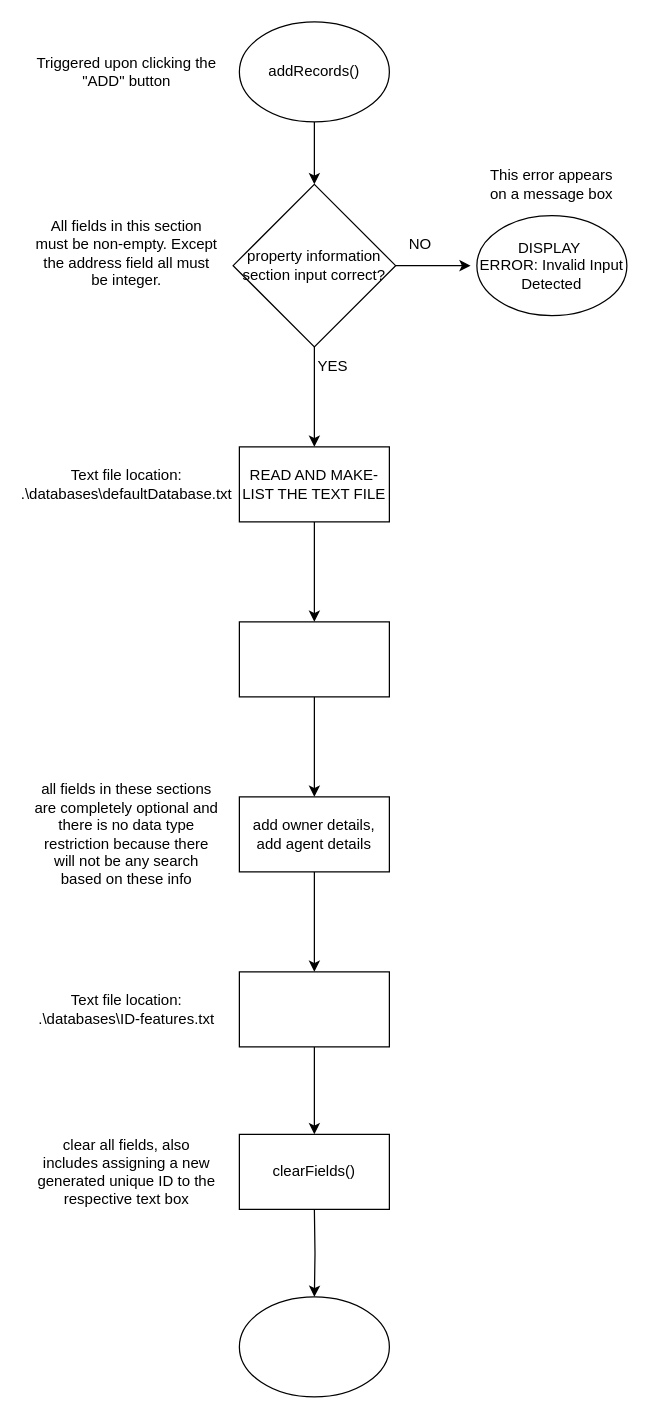
Image size: 649x1419. Some labels were removed from this diagram. Here are the shapes that lost their labels. From the top down, the centre of each, then its label:
pixel 313 659: WRITE USER INPUT INTO LIST AND WRITE THE LIST INTO TEXT FILE
pixel 313 1009: add checked feature checkboxes to a features file
pixel 313 1346: SHOW SUCCESSFUL OPERATION MESSAGE BOX
